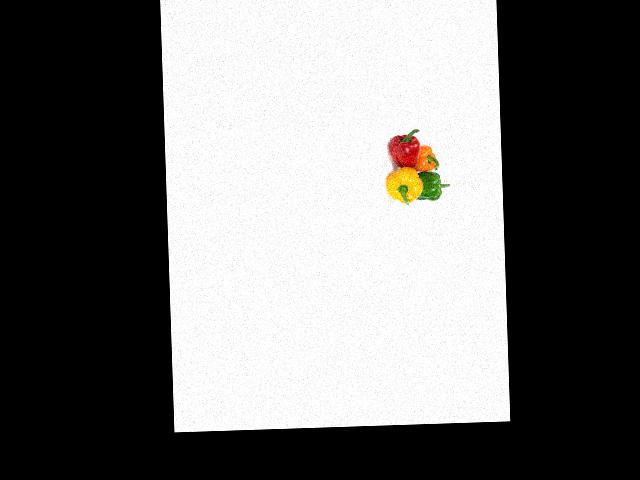bell_pepper: (384, 165, 423, 207)
